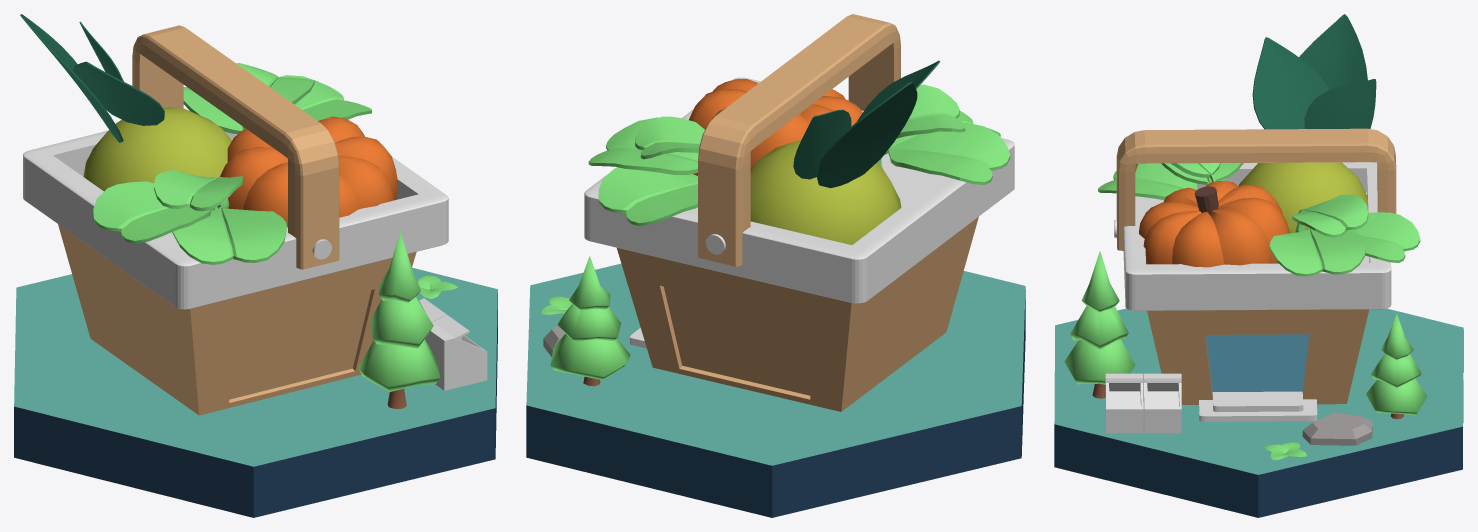
The model's file is Macro - market lv3 wm1.fbx.
3 renders of one model, left to right at view 1: azimuth 30°, elevation 25°; view 2: azimuth 150°, elevation 25°; view 3: azimuth 270°, elevation 25°, orthographic. The views are drawn at different scales.
Visible parts, largest first — view 1: Cylinder.154, Plane.069, Cube.103, Roundcube.004, Sphere.045, Sphere.044, Tree_Spruce_tiny_01.003, Plane.008, Plane.007, Cube.001, Plane.078, Plane.010 (+6 smaller); view 2: Cylinder.154, Plane.069, Cube.103, Roundcube.004, Sphere.044, Tree_Spruce_tiny_01.004, Plane.007, Plane.079, Plane.009, Sphere.045, Plane.012, Plane.016 (+3 smaller); view 3: Cylinder.154, Cube.103, Plane.069, Roundcube.004, Sphere.045, Plane.005, Tree_Spruce_tiny_01.003, Plane.078, Sphere.044, Plane.012, Tree_Spruce_tiny_01.004, Plane.079 (+13 smaller).
Boxes of the visible parts, x1=… form: Cylinder.154: x1=14, y1=267, x2=497, y2=517; Plane.069: x1=58, y1=224, x2=416, y2=415; Cube.103: x1=23, y1=110, x2=448, y2=309; Roundcube.004: x1=132, y1=25, x2=339, y2=269; Sphere.045: x1=220, y1=116, x2=397, y2=227; Sphere.044: x1=83, y1=107, x2=231, y2=191; Tree_Spruce_tiny_01.003: x1=358, y1=231, x2=440, y2=408; Plane.008: x1=172, y1=207, x2=286, y2=264; Plane.007: x1=93, y1=181, x2=217, y2=243; Cube.001: x1=425, y1=315, x2=487, y2=390; Plane.078: x1=73, y1=61, x2=164, y2=125; Plane.010: x1=154, y1=170, x2=243, y2=211; Cylinder.154: x1=526, y1=263, x2=1025, y2=517; Plane.069: x1=617, y1=217, x2=978, y2=411; Cube.103: x1=584, y1=77, x2=1014, y2=303; Roundcube.004: x1=698, y1=14, x2=900, y2=266; Sphere.044: x1=750, y1=140, x2=901, y2=244; Tree_Spruce_tiny_01.004: x1=550, y1=256, x2=630, y2=386; Plane.007: x1=878, y1=123, x2=1010, y2=184; Plane.079: x1=816, y1=81, x2=917, y2=188; Plane.009: x1=598, y1=167, x2=697, y2=226; Sphere.045: x1=689, y1=79, x2=862, y2=175; Plane.012: x1=588, y1=117, x2=698, y2=174; Plane.016: x1=635, y1=116, x2=704, y2=159; Cylinder.154: x1=1054, y1=308, x2=1463, y2=517; Cube.103: x1=1123, y1=162, x2=1391, y2=310; Plane.069: x1=1147, y1=309, x2=1369, y2=404; Roundcube.004: x1=1116, y1=128, x2=1396, y2=250; Sphere.045: x1=1139, y1=181, x2=1289, y2=267; Plane.005: x1=1205, y1=334, x2=1309, y2=393; Tree_Spruce_tiny_01.003: x1=1064, y1=251, x2=1135, y2=398; Plane.078: x1=1252, y1=37, x2=1328, y2=129; Sphere.044: x1=1238, y1=162, x2=1368, y2=233; Plane.012: x1=1269, y1=228, x2=1366, y2=276; Tree_Spruce_tiny_01.004: x1=1366, y1=313, x2=1427, y2=419; Plane.079: x1=1299, y1=14, x2=1367, y2=90.
Bounding box in the file's own units: 197 × 153 × 172.
